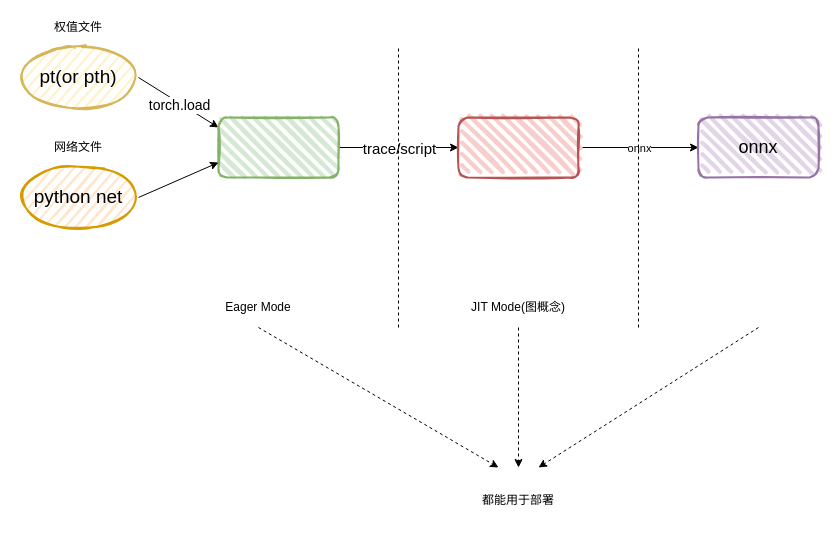
Some shapes in this 836 by 544 pixel diagram are drawn without their labels. The centre of each missing label's shape, as x and y in pixels:
pt: the point at 518,147
pytorch model: the point at 278,147
